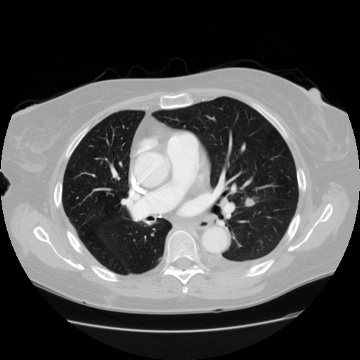PN: (244, 198, 254, 208)
